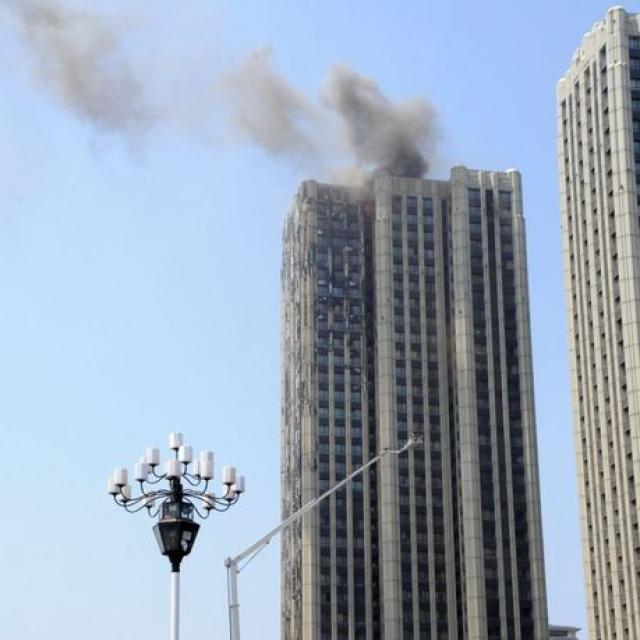Smoke: (220, 52, 433, 175), (18, 0, 148, 138)
